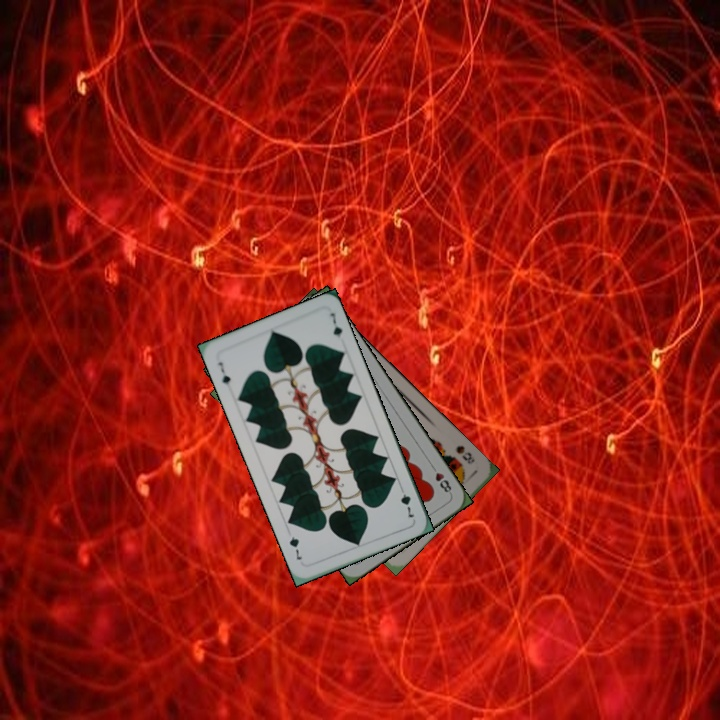G7: (395, 482, 417, 520), (214, 358, 233, 388)
H8: (427, 461, 454, 497)
S8: (452, 441, 477, 467)
